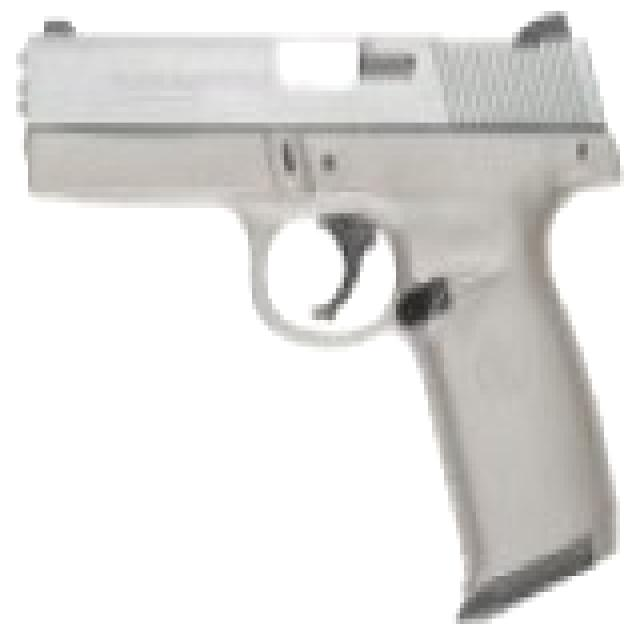pistol: (20, 0, 632, 613)
